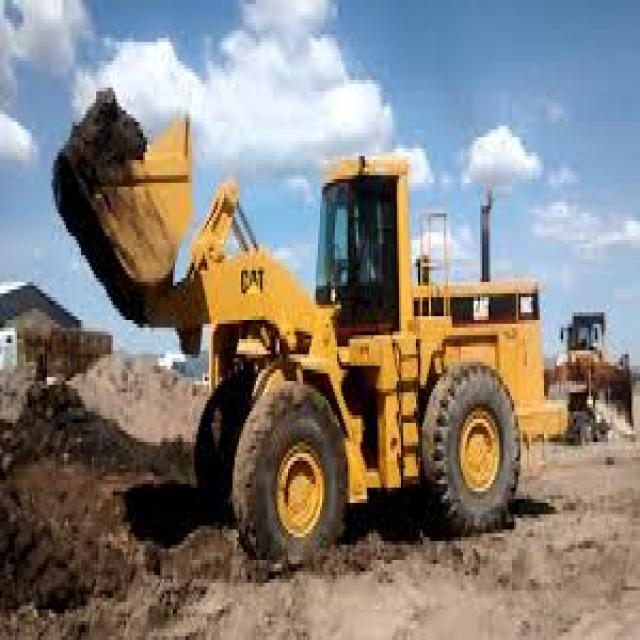buldozerpayloadergrader: (45, 86, 573, 552)
